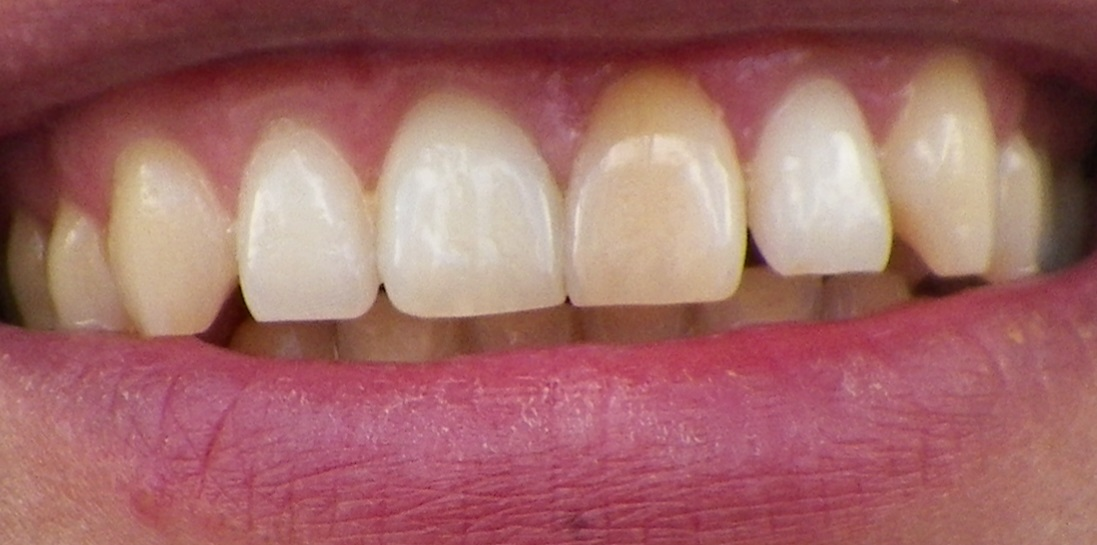boca: (7, 60, 1090, 362)
